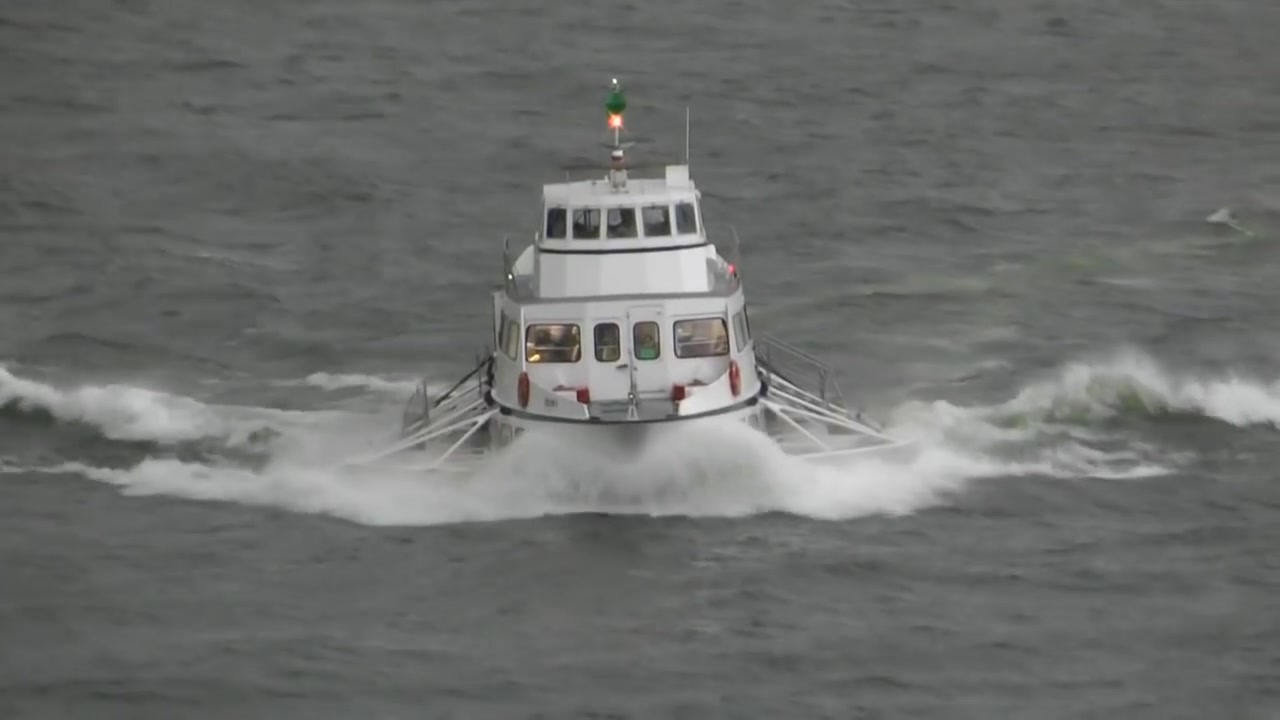CommonShip: (446, 156, 780, 476)
